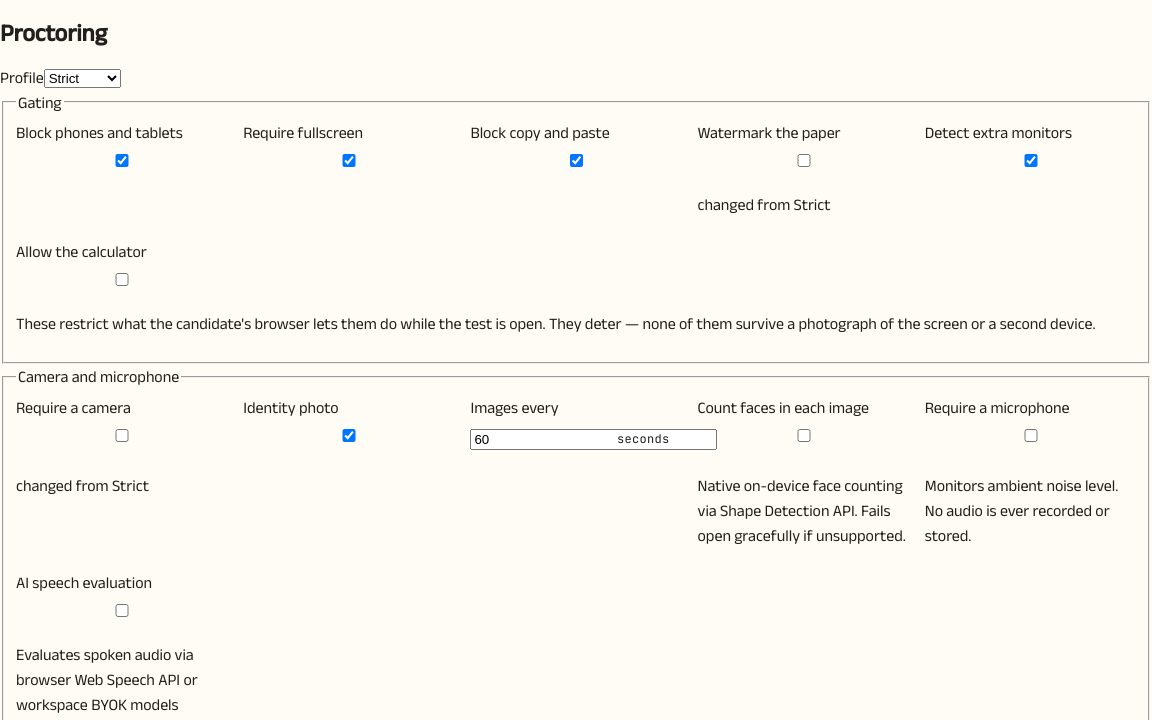
the profile rewrites the controls, visibly (Q8a) › the confirmation › confirming clears the overrides and applies the new profile
Select "Standard" in the dropdown labelled "Profile" at [82, 78], box [44, 69, 121, 88]
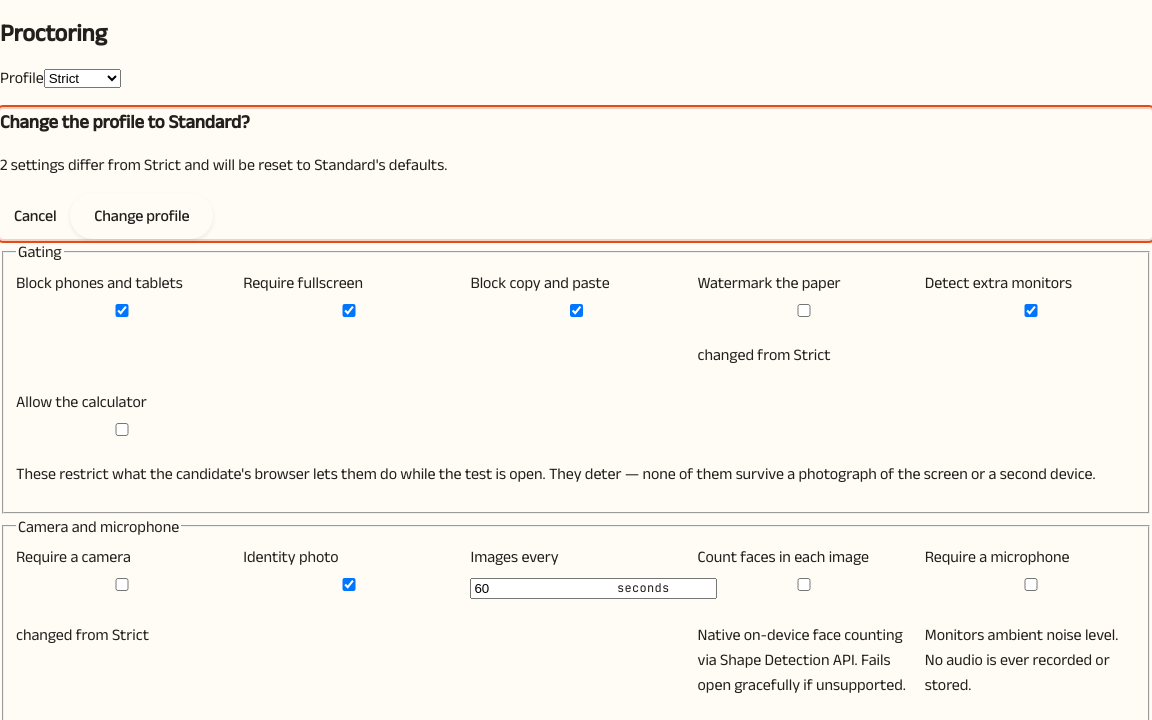
Click the button "Change profile" at [142, 216], box [70, 193, 213, 239]
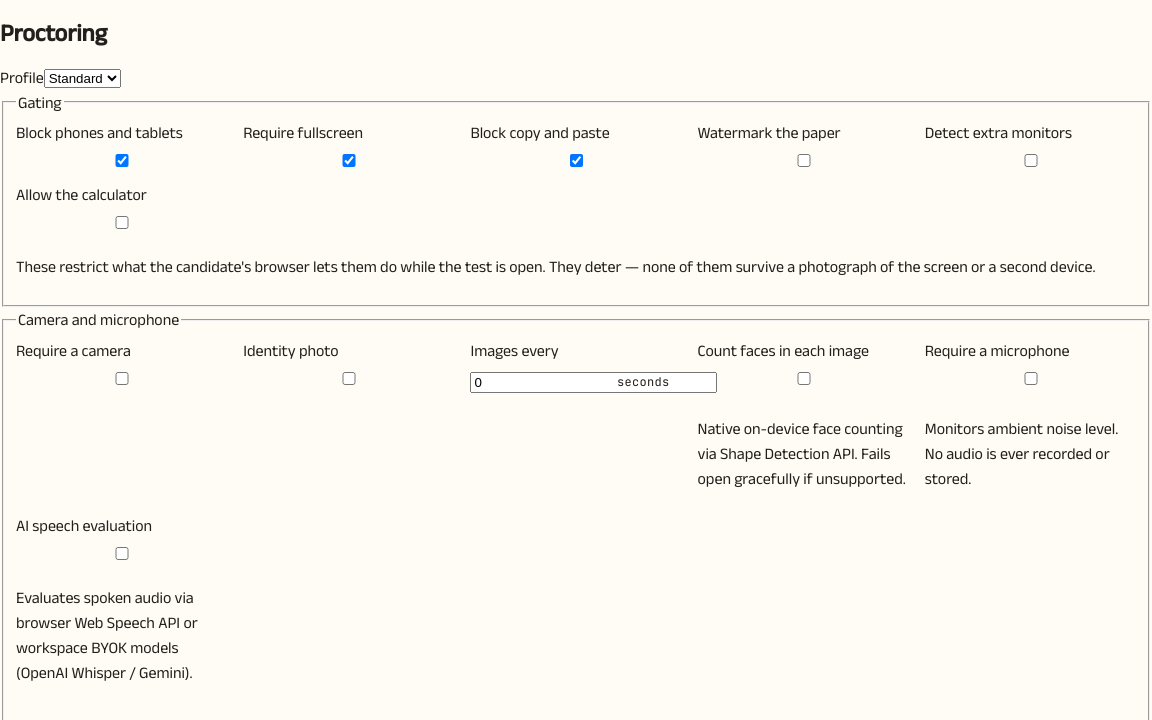
Expected: the dialog is gone
Expected: the text "changed from" is gone
